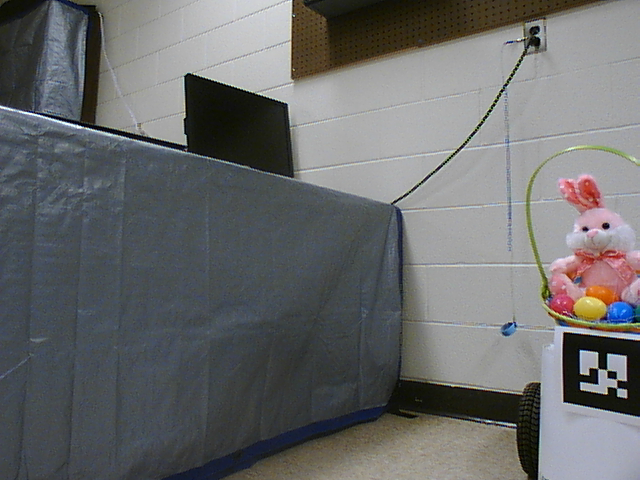bunny: (516, 133, 640, 338)
